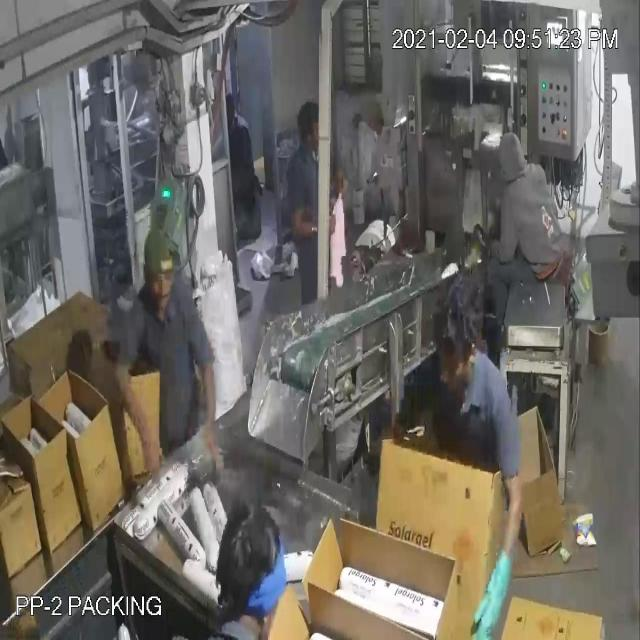No_Gloves: (33, 62, 496, 585)
